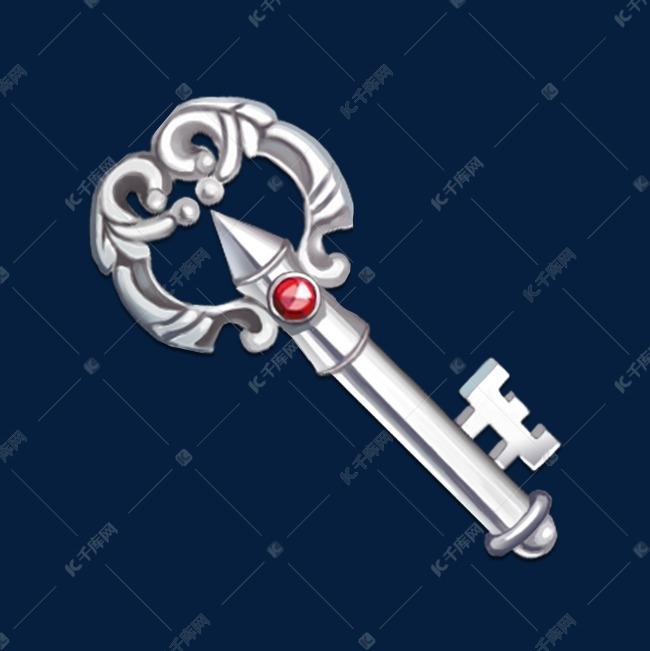key: (71, 77, 595, 573)
